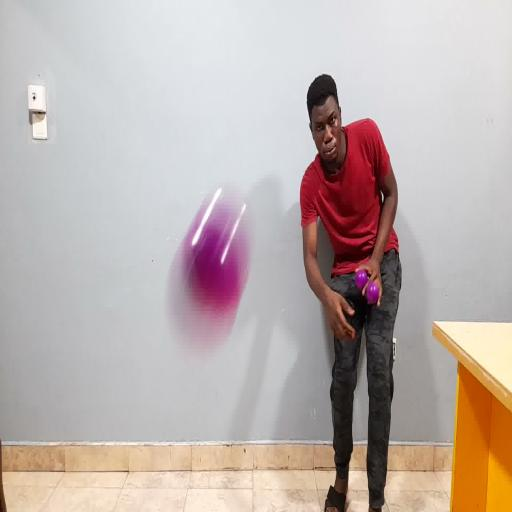plastic-ball: (166, 180, 256, 362)
